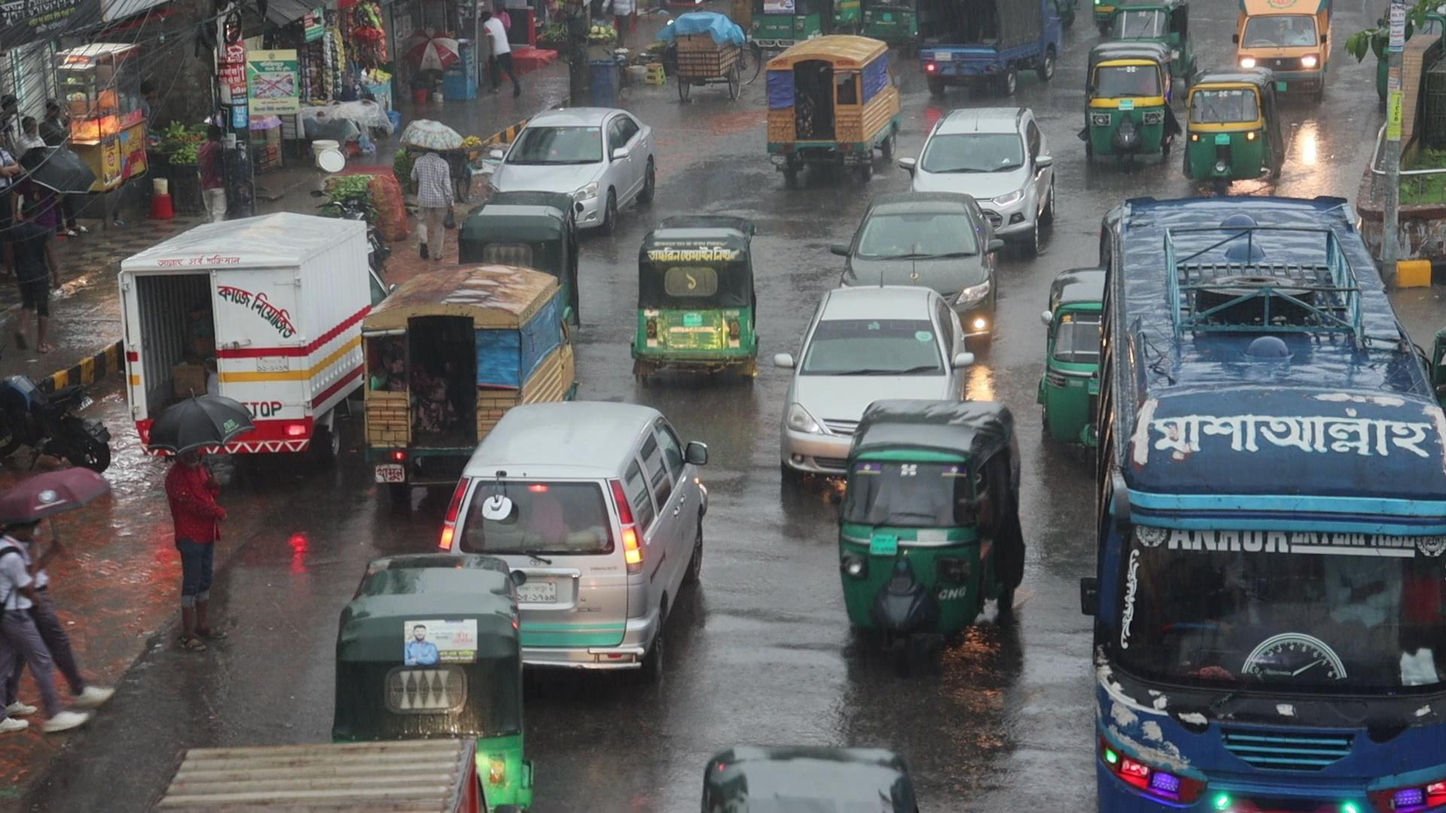Bus: (1075, 193, 1446, 813)
Car: (436, 399, 708, 672), (776, 281, 973, 430), (831, 190, 1003, 299), (897, 105, 1055, 204)
Truck: (356, 261, 578, 465), (762, 33, 897, 181), (911, 0, 1063, 96)
